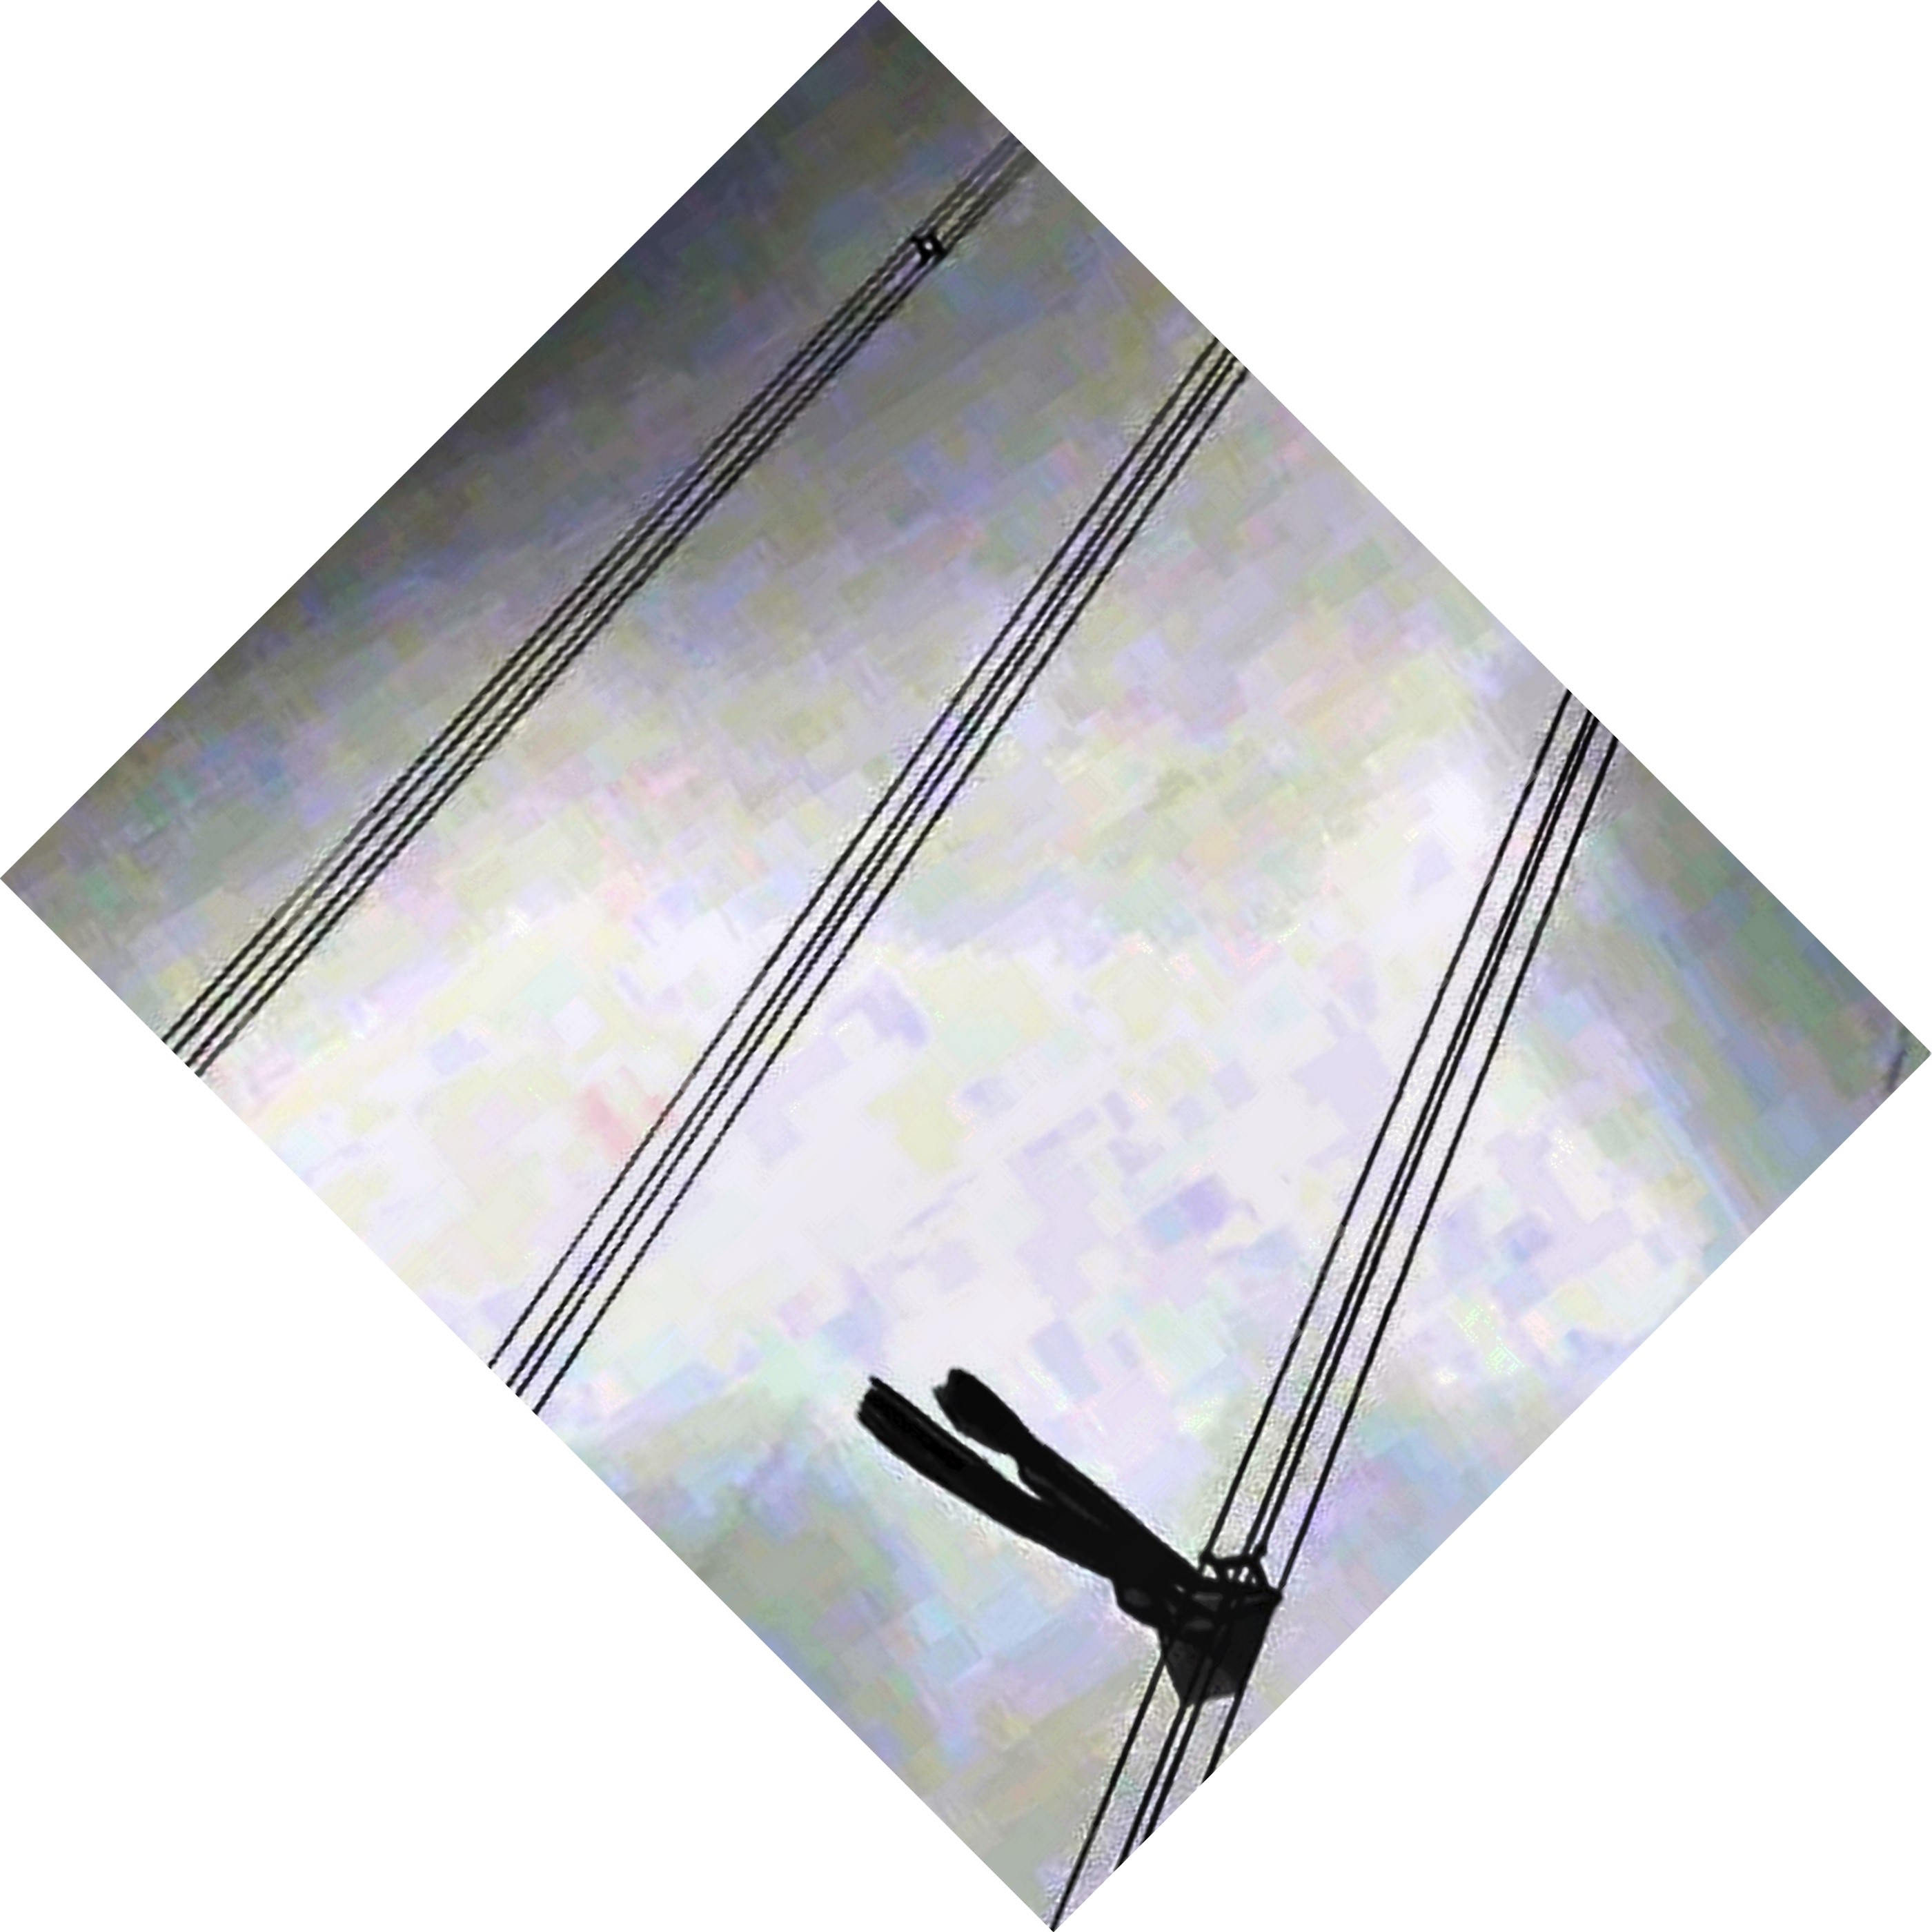wire foreign body: (856, 1359, 1304, 1723)
